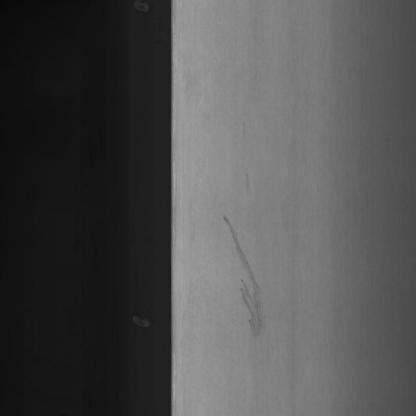water_spot: (218, 206, 277, 343)
